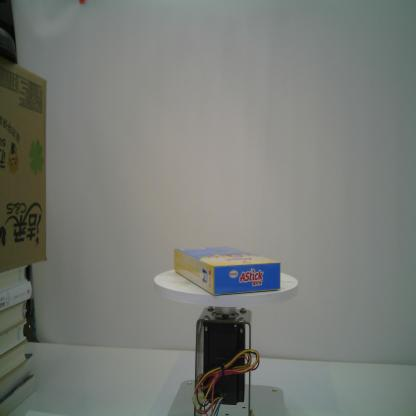Dessert: (173, 243, 282, 299)
